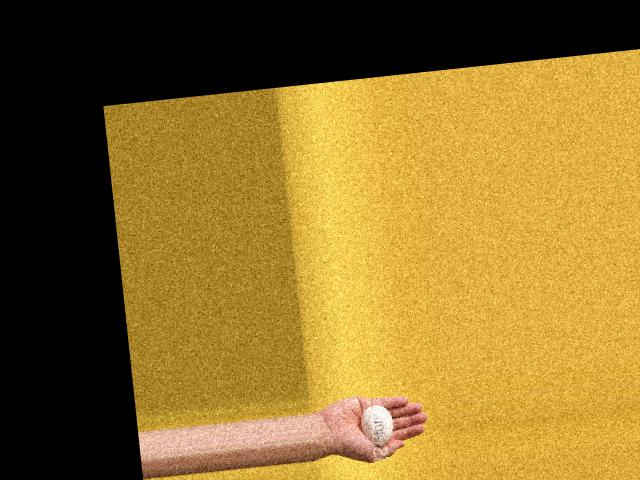egg: (359, 403, 395, 447)
